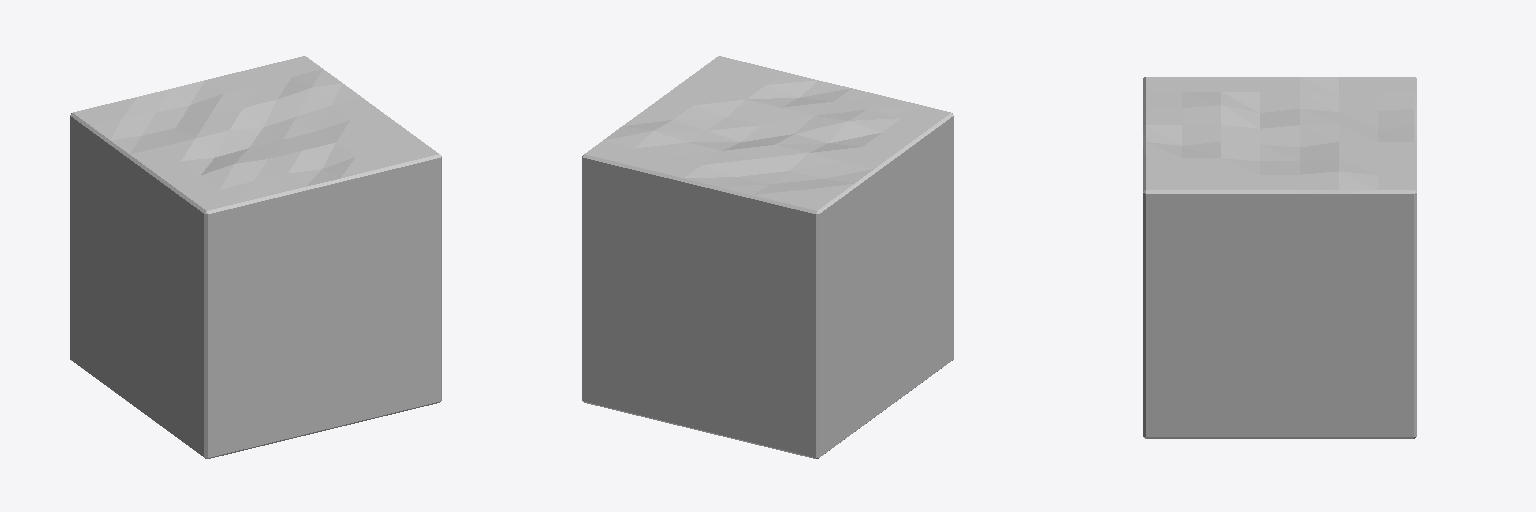
The model's file is floor2.obj.
3 views of the same model, side by side, from view 1: azimuth 30°, elevation 25°; view 2: azimuth 150°, elevation 25°; view 3: azimuth 270°, elevation 25° (orthographic).
Visible parts, largest first — view 1: Floor2; view 2: Floor2; view 3: Floor2.
Boxes of the visible parts, <box> form: Floor2: <box>70,56,441,458</box>; Floor2: <box>582,56,953,458</box>; Floor2: <box>1143,77,1416,438</box>.
Size of the model in its own units: 2 by 2.03 by 2.